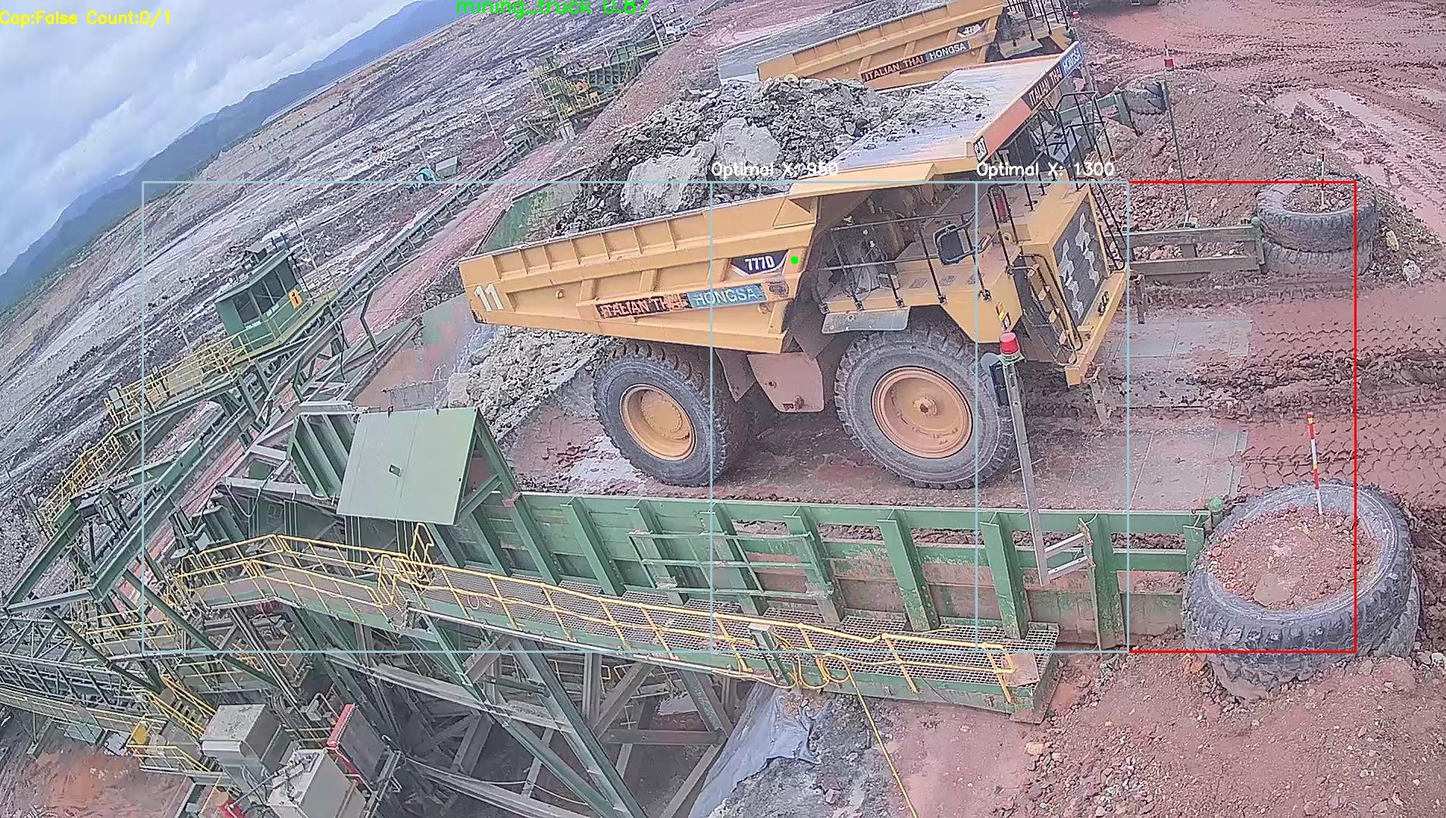company: (586, 278, 768, 316)
full_load: (595, 79, 864, 217)
mining_truck: (454, 44, 1160, 480)
tail_number: (471, 278, 510, 321)
truck_size: (730, 252, 787, 277)
